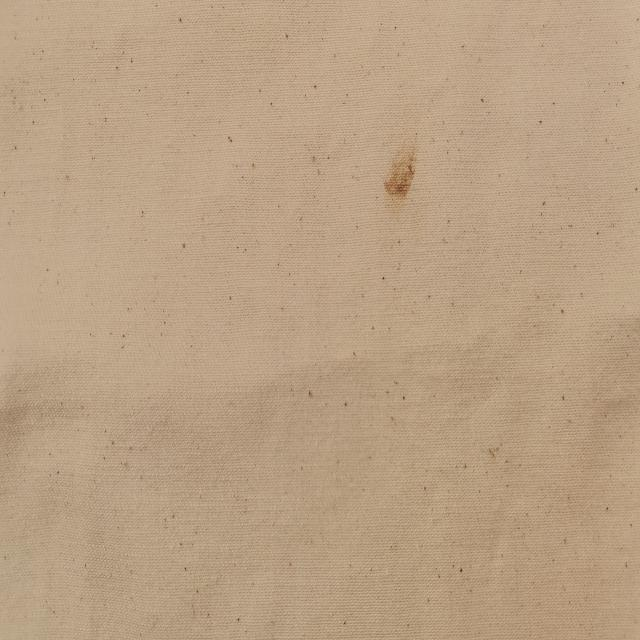taaaches: (381, 125, 418, 215)
